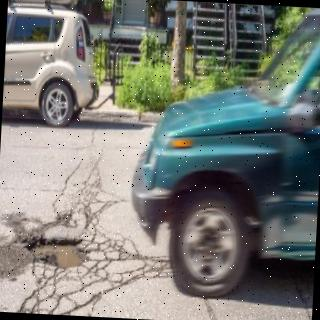pothole: (25, 236, 86, 269)
